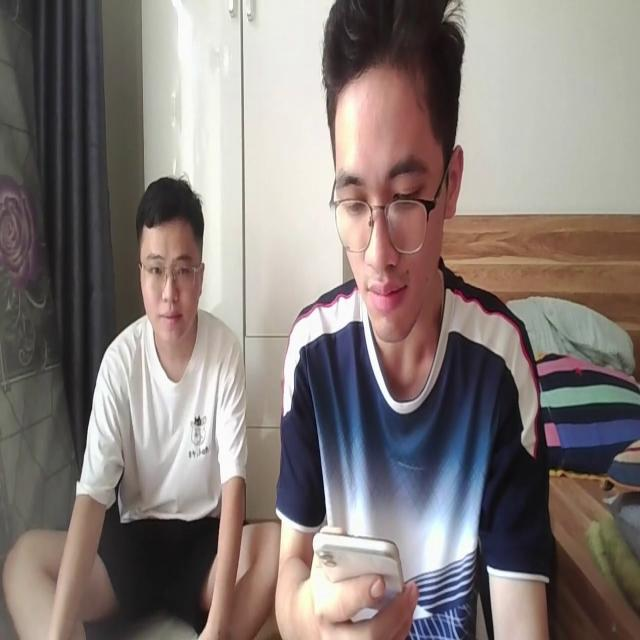extra_person: (5, 170, 278, 640)
phone: (311, 526, 416, 596)
student: (271, 0, 555, 640)
